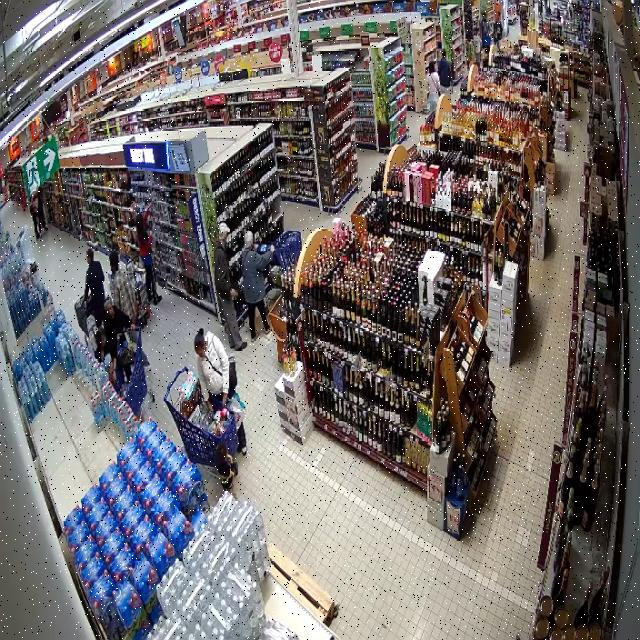bags: (229, 360, 238, 389)
hands: (206, 399, 214, 410), (230, 289, 238, 300), (222, 393, 227, 406), (129, 324, 137, 329)
person: (214, 223, 246, 350), (194, 328, 236, 409), (243, 233, 273, 340), (104, 298, 135, 357), (110, 252, 135, 323), (237, 426, 245, 453)
